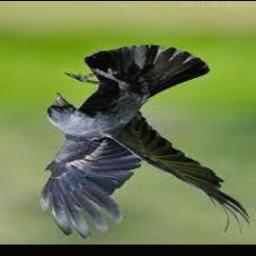Crow: (41, 46, 254, 239)
